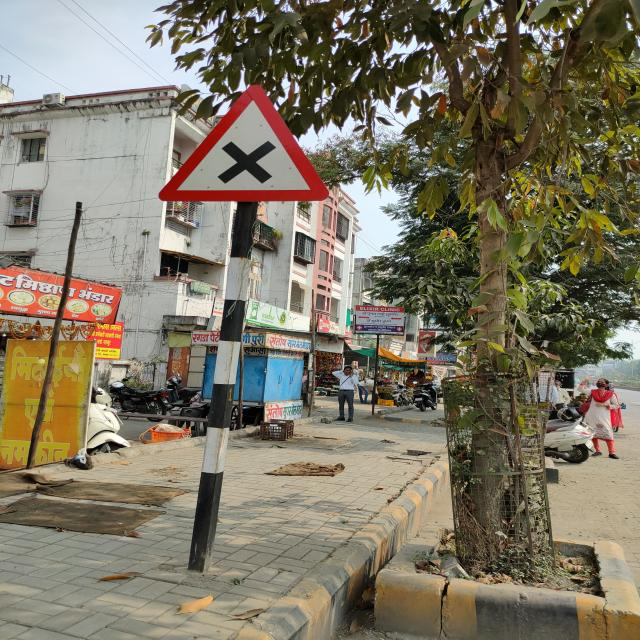cross_road: (157, 80, 330, 205)
